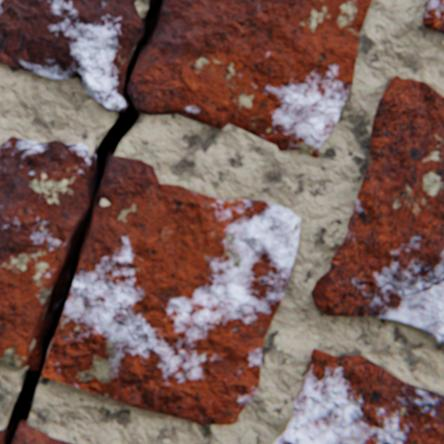brick: (310, 75, 443, 342), (271, 347, 443, 443), (421, 0, 443, 34)
broken_brick: (42, 155, 299, 423), (126, 0, 370, 157), (0, 137, 93, 368), (0, 0, 142, 111), (14, 423, 80, 443), (0, 429, 3, 443)
crack: (1, 0, 162, 443), (357, 276, 443, 295)
